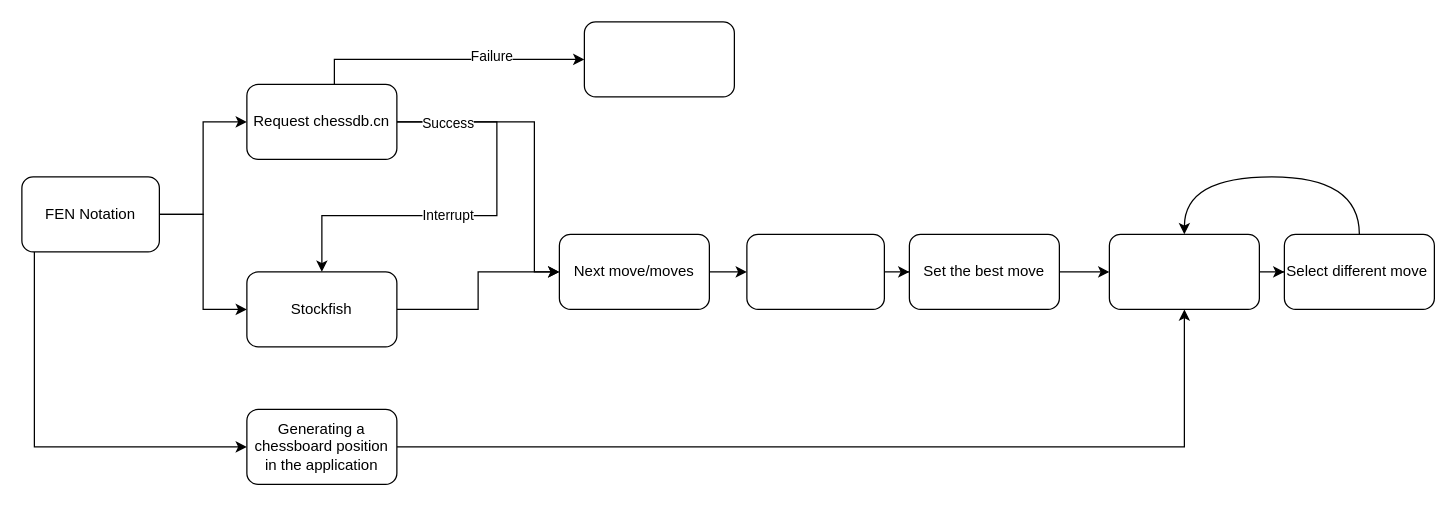
Image size: 1456x506. Some labels were removed from this diagram. Here are the shapes that lost their labels. From the top down, the box of each, then its label:
(583, 21, 734, 97): End
(746, 233, 884, 309): Recycler View
(1108, 233, 1259, 309): Display move on the chessboard
